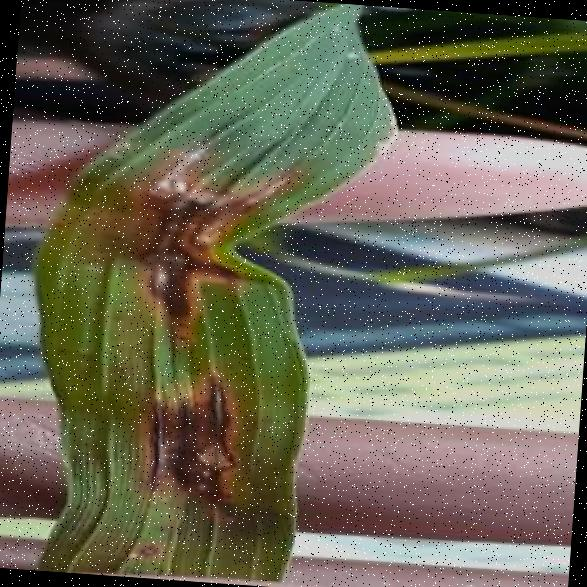Leaf_smut: (109, 346, 254, 508), (130, 137, 231, 250), (112, 228, 210, 332)
